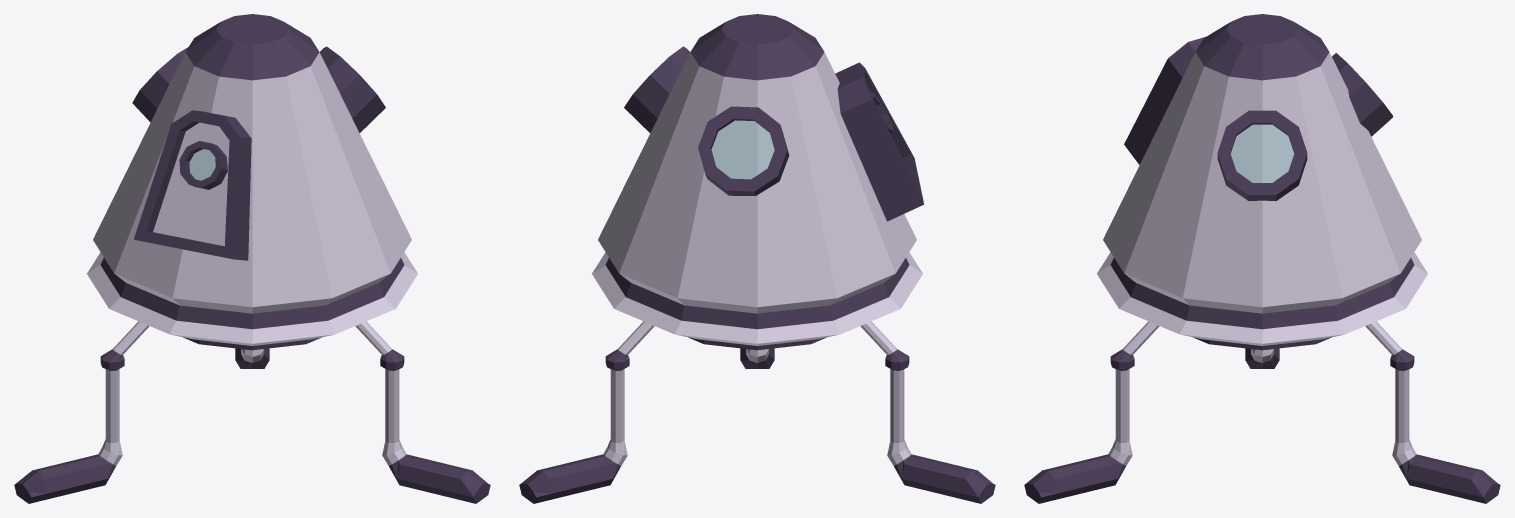
Rendered from FBX_POD.fbx.
3 renders of one model, left to right at view 1: azimuth 30°, elevation 25°; view 2: azimuth 150°, elevation 25°; view 3: azimuth 270°, elevation 25°, orthographic.
Visible parts, largest first — view 1: group2; view 2: group2; view 3: group2.
Part boxes in pixels (x1=…): group2: x1=14, y1=14, x2=490, y2=503; group2: x1=519, y1=14, x2=995, y2=503; group2: x1=1024, y1=14, x2=1500, y2=503.
Bounding box in the file's own units: 247 × 262 × 273.
